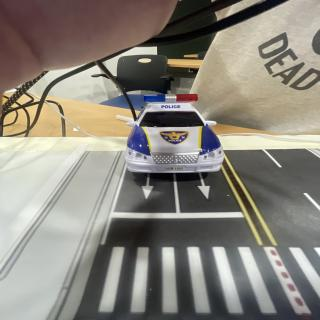Police_car: (126, 94, 223, 173)
